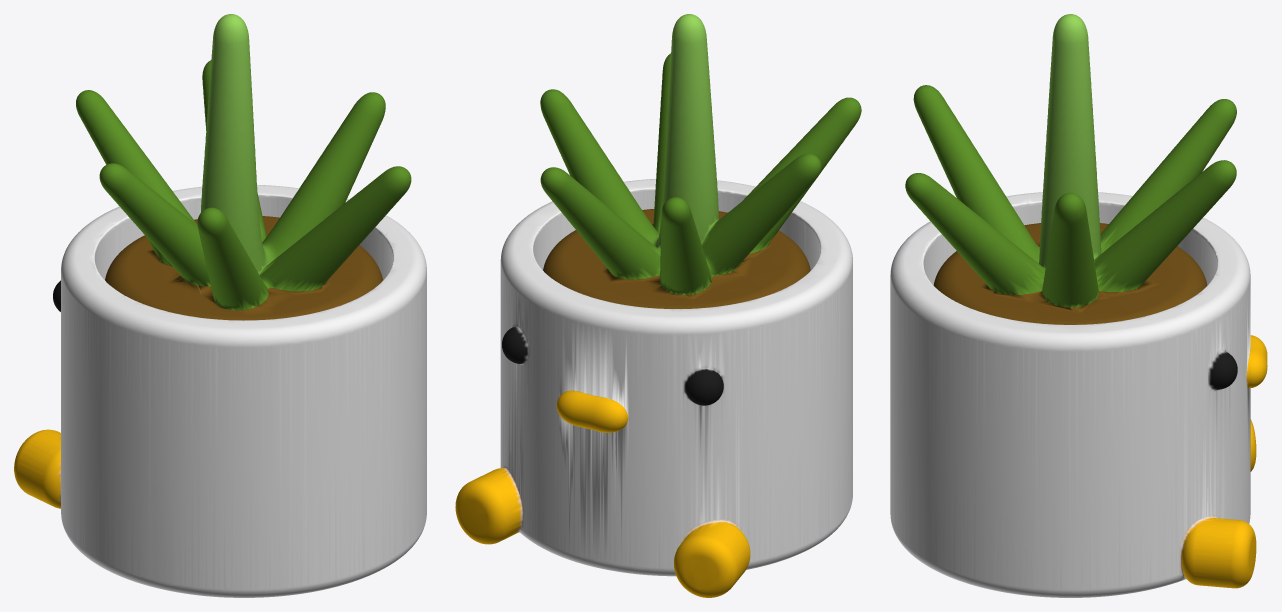
The model's file is plant.glb.
3 views of the same model, side by side, from view 1: azimuth 30°, elevation 25°; view 2: azimuth 150°, elevation 25°; view 3: azimuth 270°, elevation 25° (orthographic). The views are drawn at different scales.
Visible parts, largest first — view 1: Area (1); view 2: Area (1); view 3: Area (1).
Part boxes in pixels (x1,y1,x2,y2): Area (1): (14,14,426,597); Area (1): (455,14,861,597); Area (1): (890,14,1267,597).
Size of the model in its own units: 158 by 246 by 165.
1 material, 1 textured.
